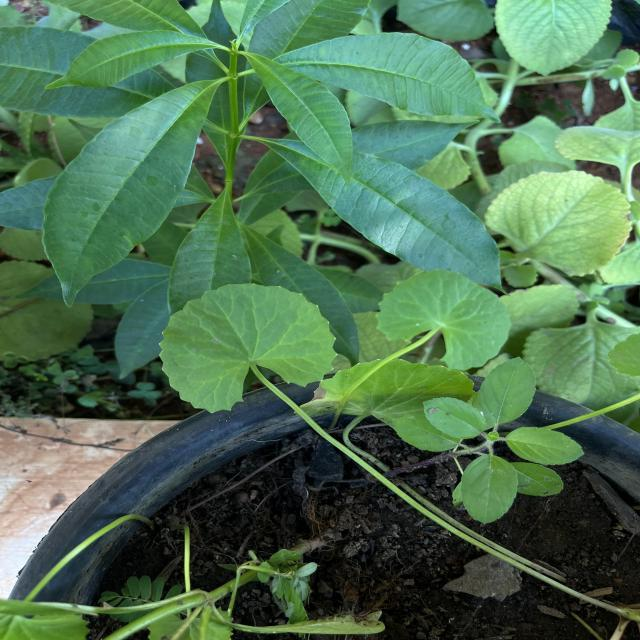Centella asiatica: (154, 280, 340, 415)
